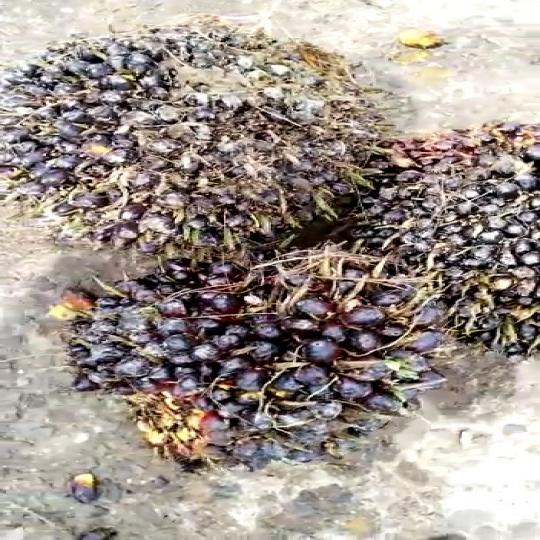mentah: (68, 234, 428, 483), (0, 24, 371, 252), (332, 116, 540, 357)
